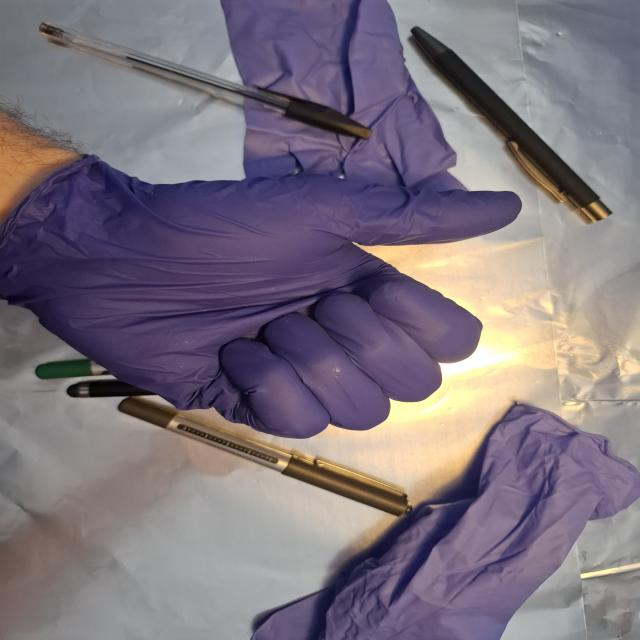glove_on: (5, 150, 530, 443)
